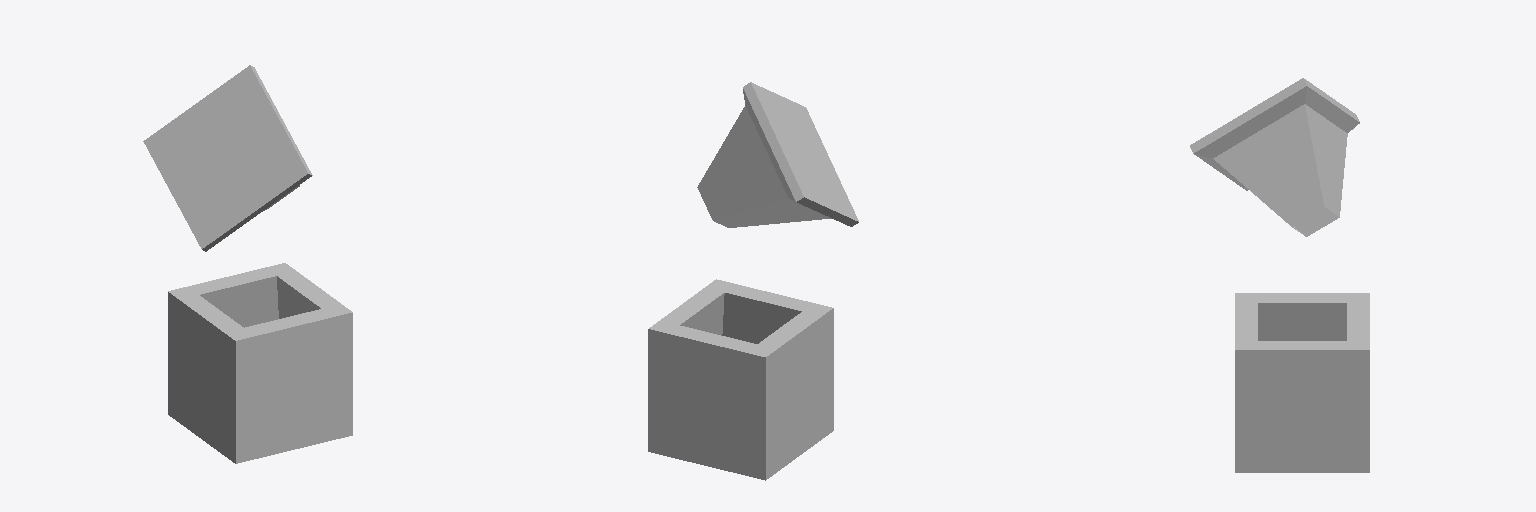
The model's file is AnimatedBox_000114.obj.
3 renders of one model, left to right at view 1: azimuth 30°, elevation 25°; view 2: azimuth 150°, elevation 25°; view 3: azimuth 270°, elevation 25°, orthographic.
Visible parts, largest first — view 1: Cube, Cube.001; view 2: Cube, Cube.001; view 3: Cube, Cube.001.
Part boxes in pixels (left/top/right/bottom): Cube: left=168, top=263, right=352, bottom=463; Cube.001: left=143, top=65, right=312, bottom=251; Cube: left=648, top=279, right=833, bottom=480; Cube.001: left=697, top=82, right=858, bottom=227; Cube: left=1235, top=293, right=1369, bottom=472; Cube.001: left=1190, top=78, right=1359, bottom=236.
Bounding box in the file's own units: 2.53 × 5.88 × 2.67.